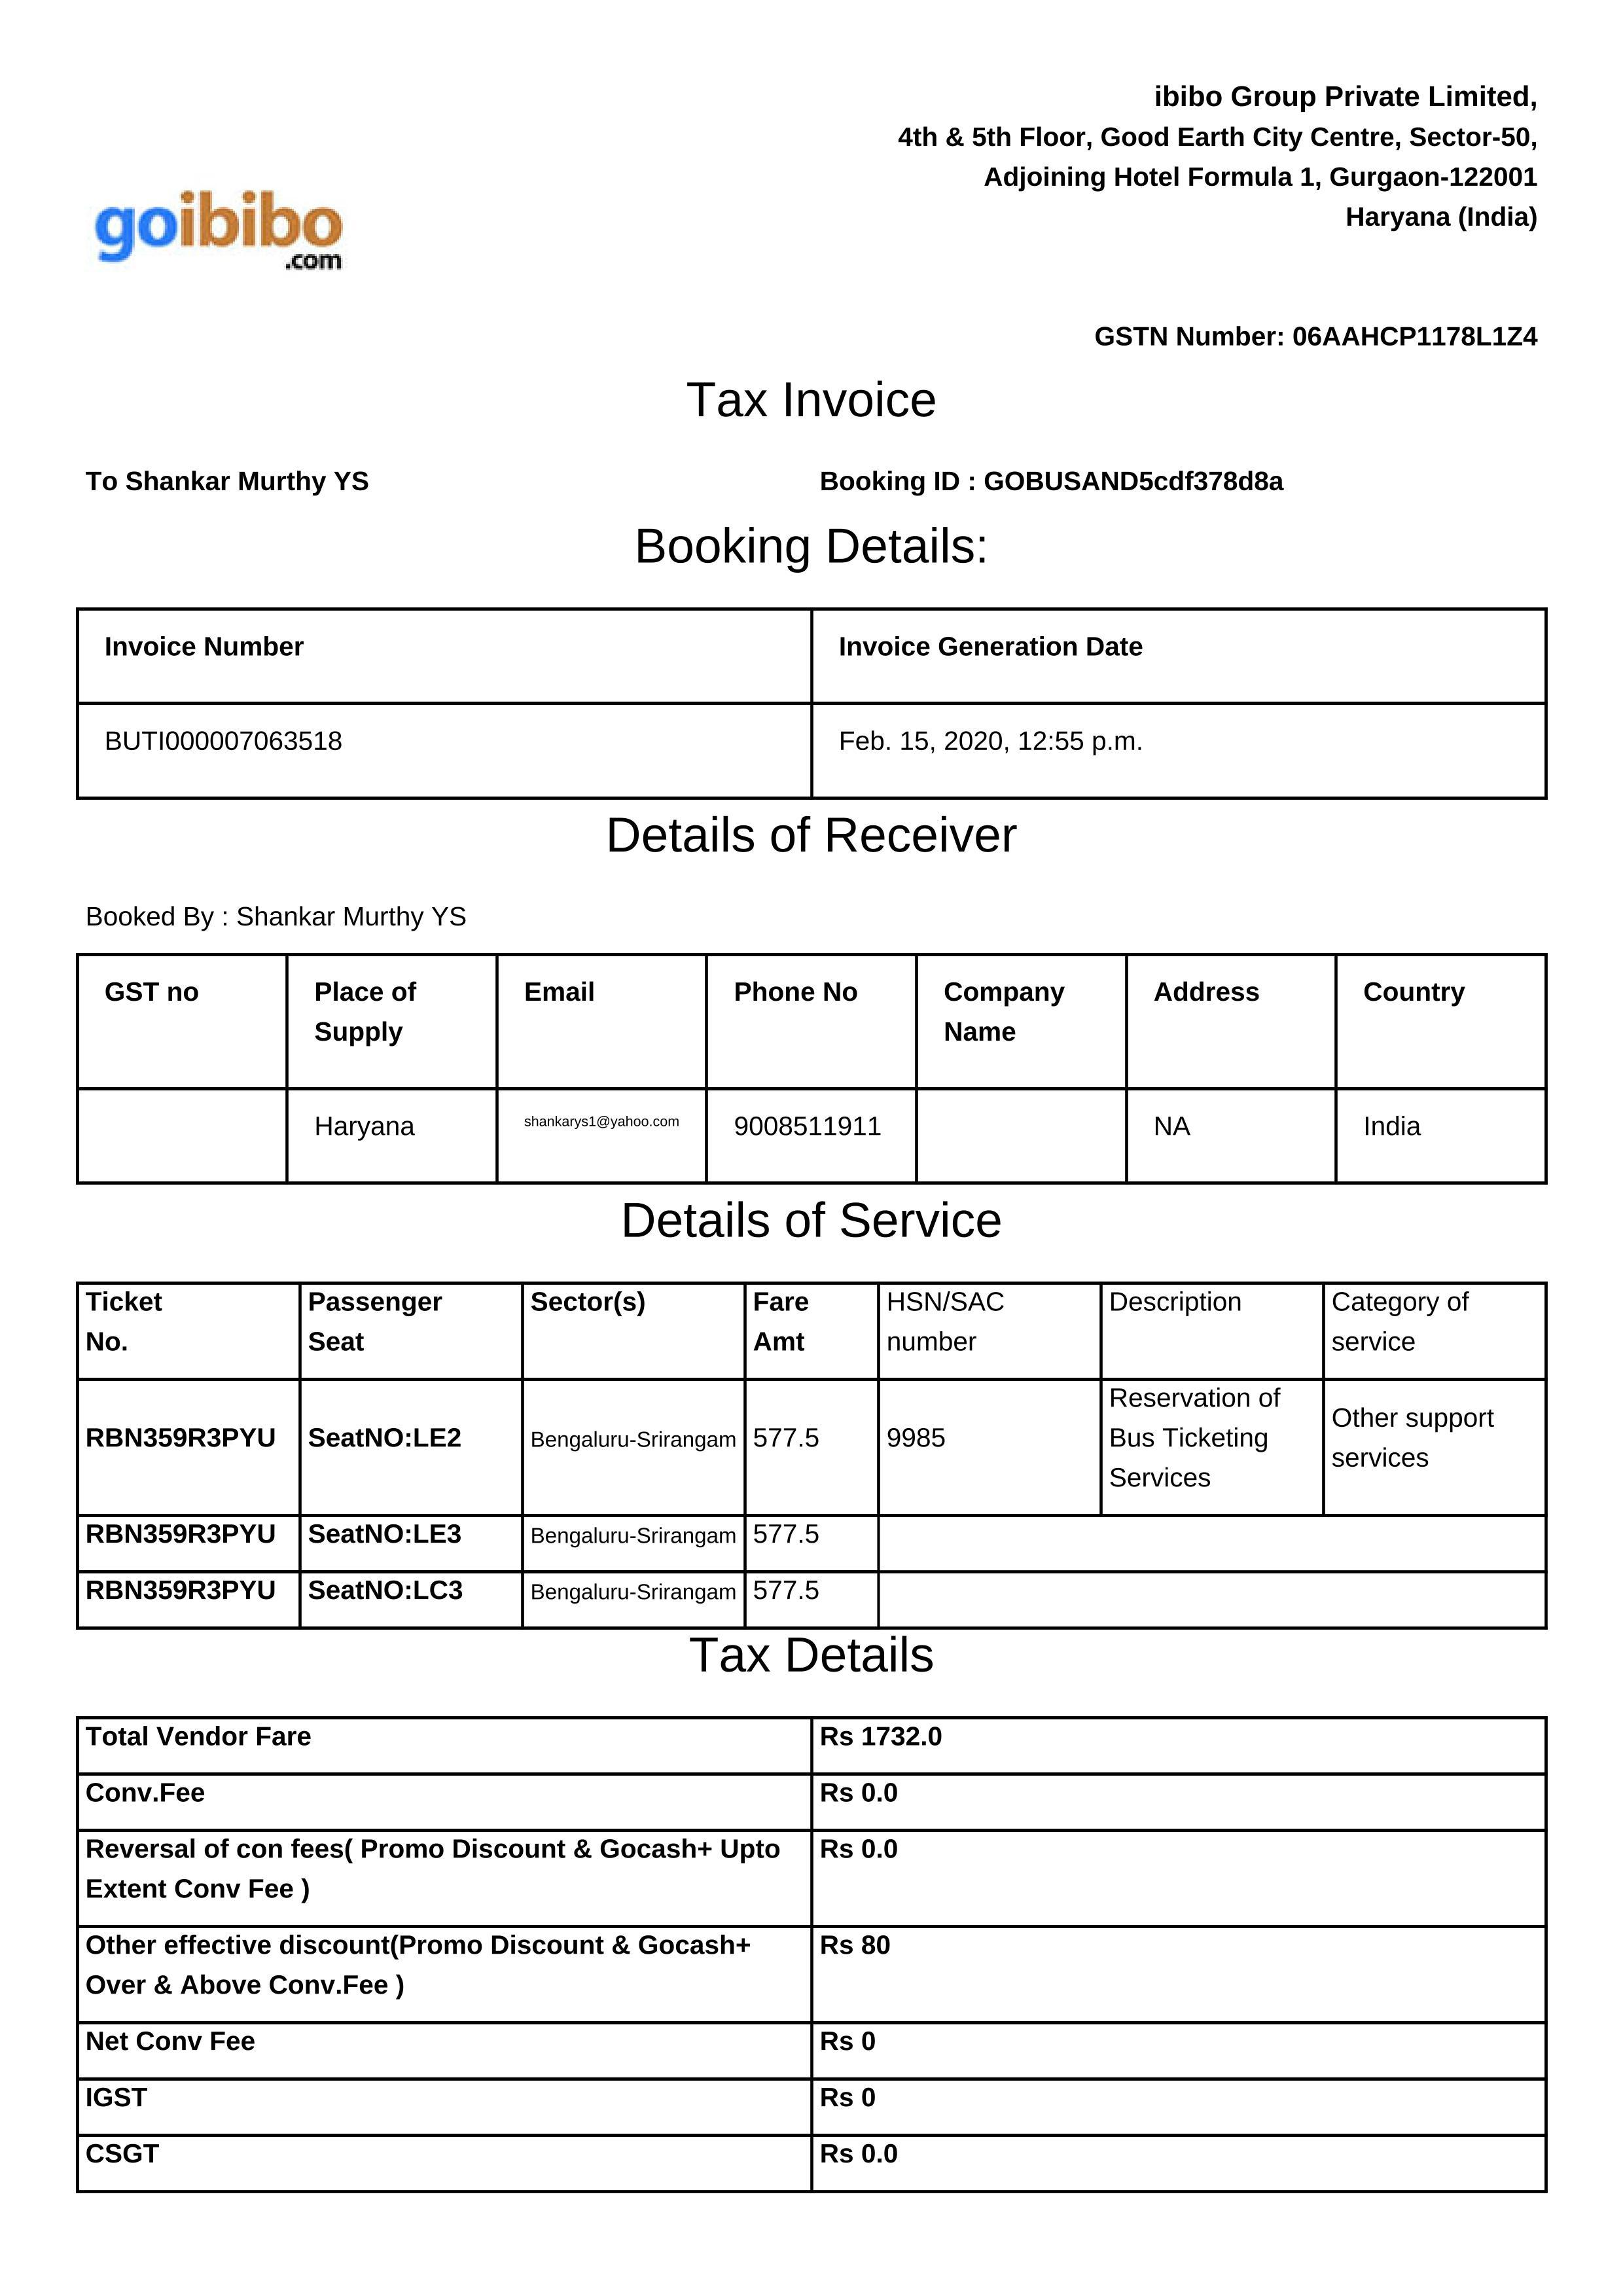InvoiceDate: (819, 697, 1163, 769)
InvoiceNumber: (90, 708, 374, 785)
TotalAmount: (806, 1706, 956, 1764)
